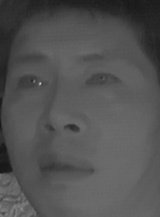eye: (82, 66, 122, 92), (13, 71, 49, 93)
mouth: (33, 147, 95, 187)
